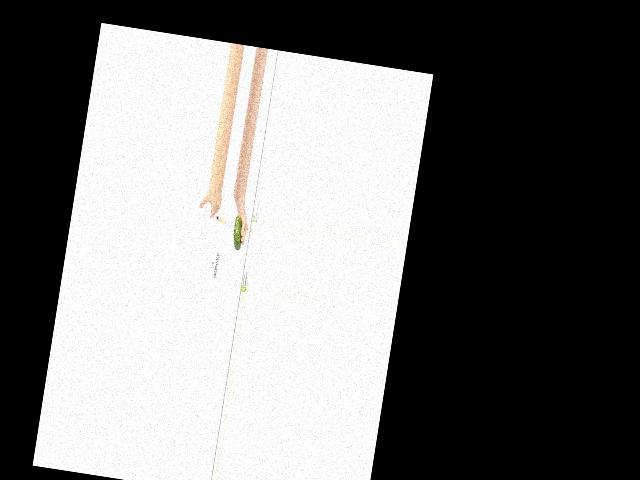cucumber: (231, 215, 245, 250)
